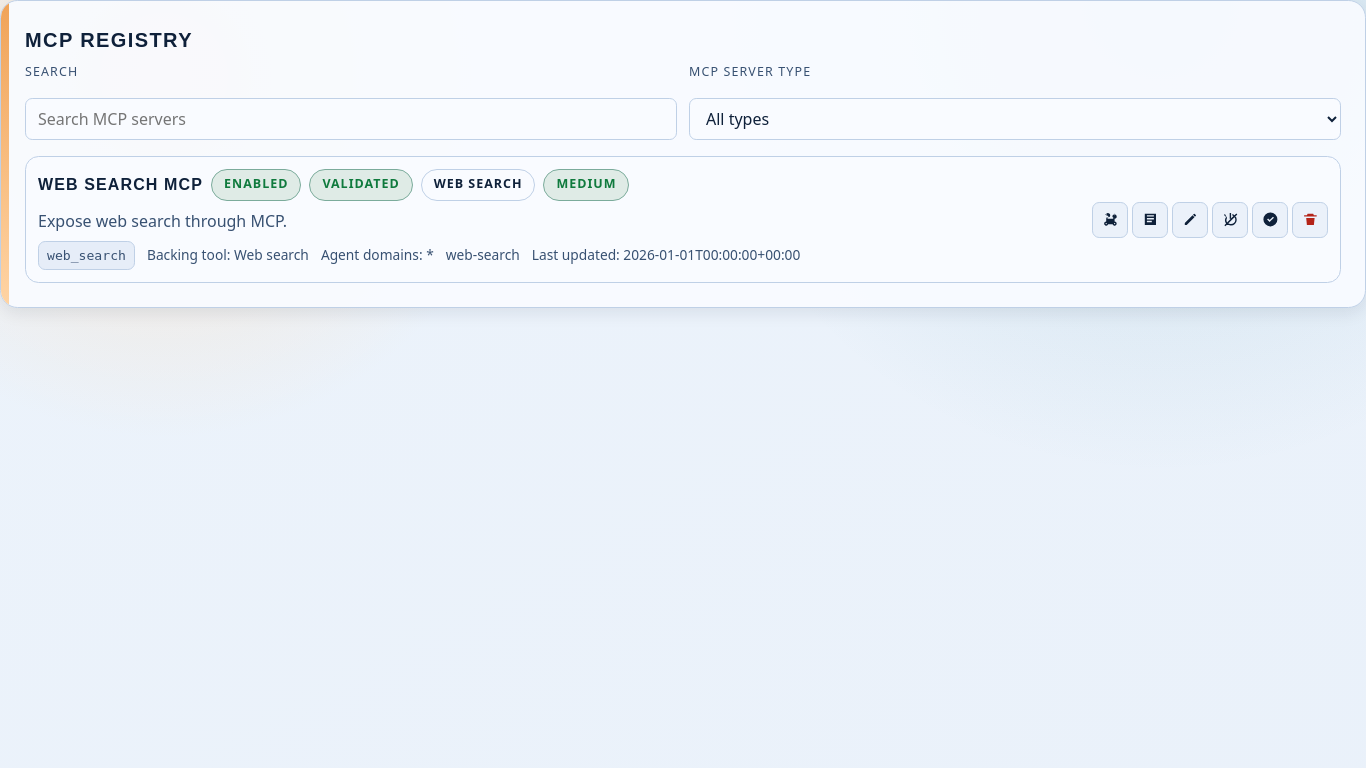
Test: CatalogMcpRegistry › opens a lifecycle graph modal from compact MCP rows
Expected: the button "Disable" is not shown
Expected: the link "Disable" is not shown
Click the button named "View lifecycle for Web search MCP" at (1110, 220), box [1092,202,1128,238]
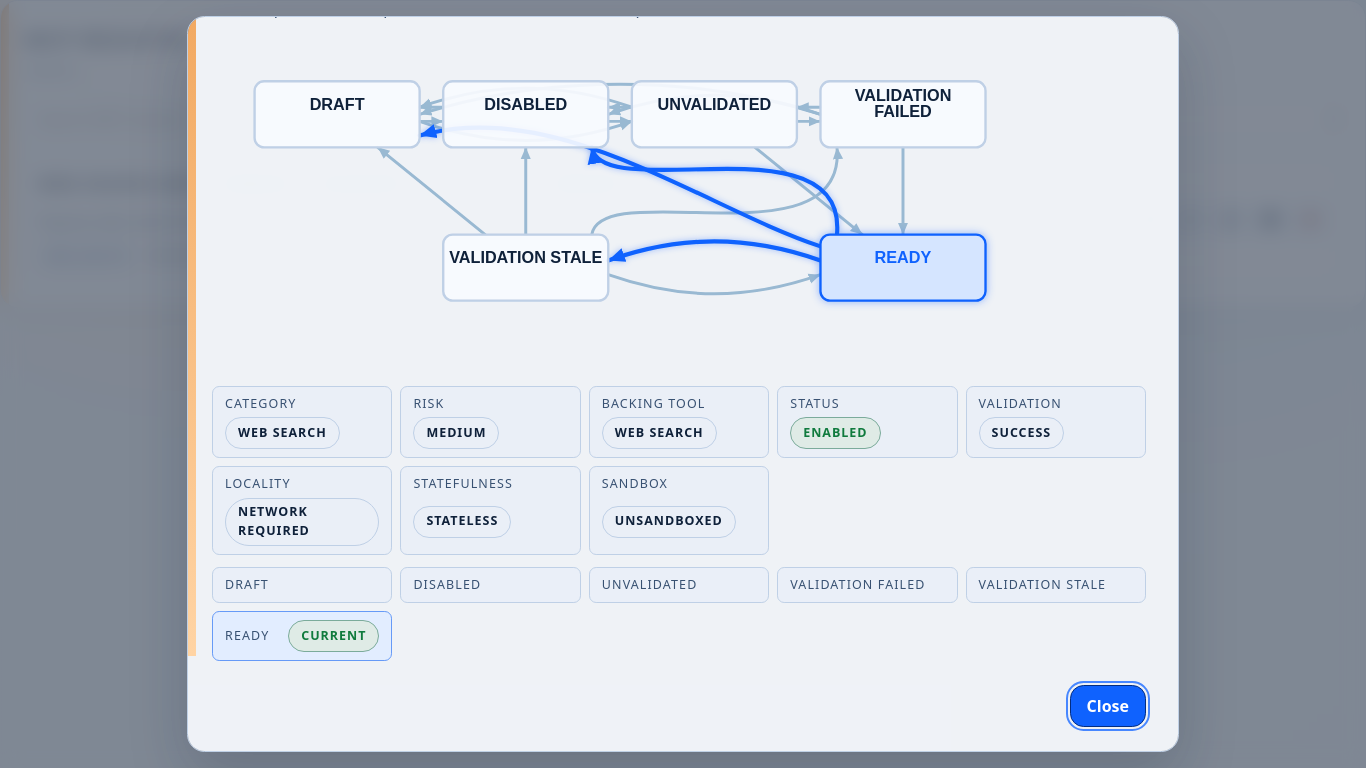
Now the text "Current" is shown, box [288,620,379,652]
Now the text "Category" is shown, box [225,395,296,412]
Now the text "Medium" is shown, box [413,417,499,449]
